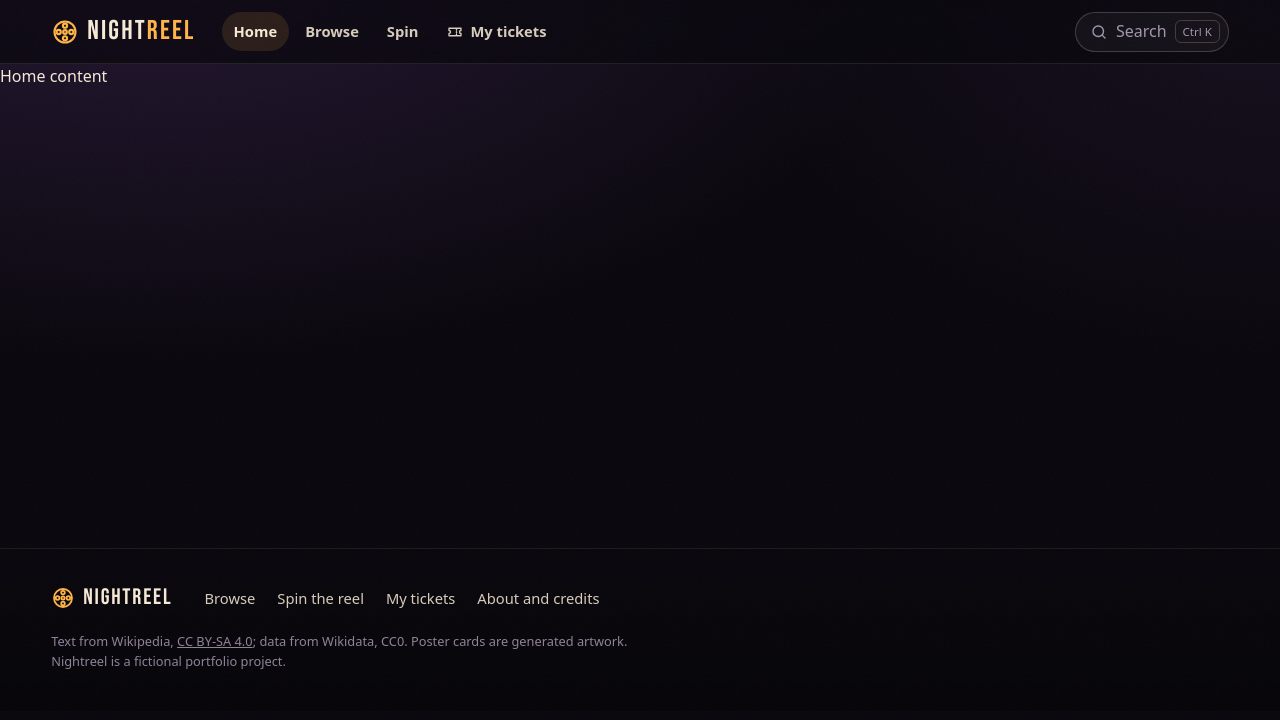
it: Layout › opens search from the header button
Click the button with aria-label "Search movies and people" at (1152, 32), box [1075, 12, 1229, 52]
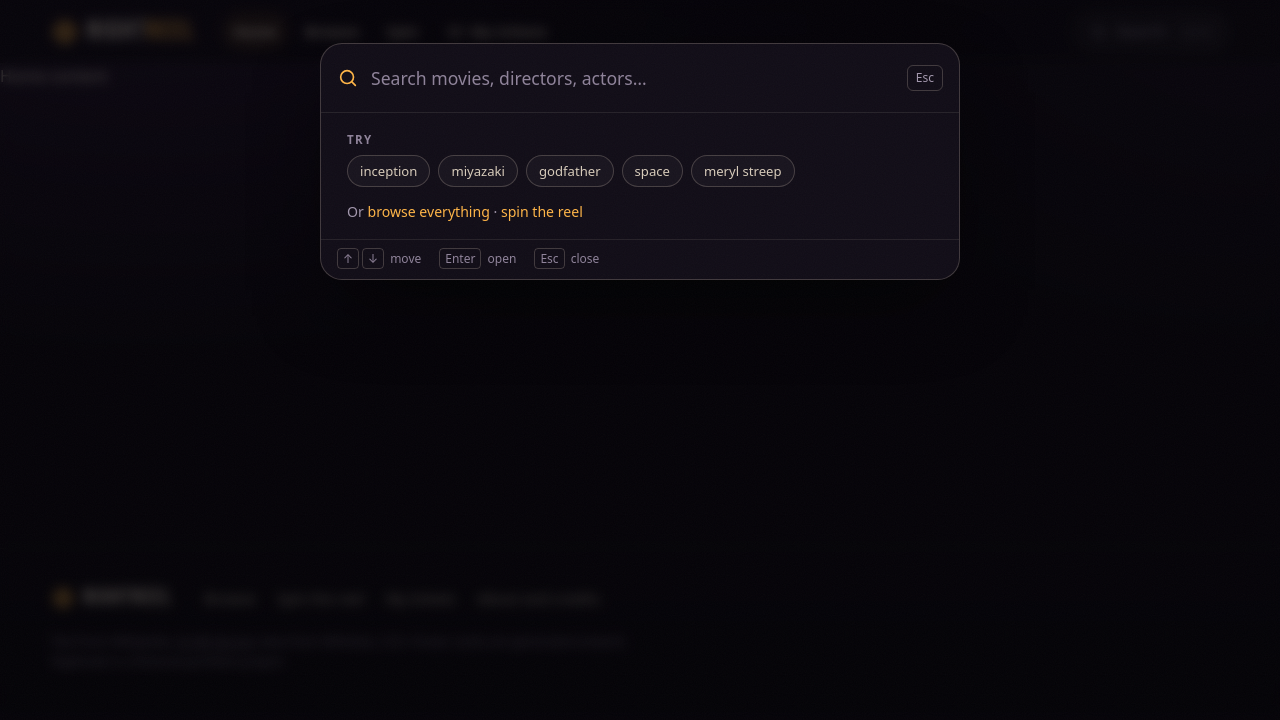
Expected: the dialog named "Search" is shown, [320, 43, 960, 280]
